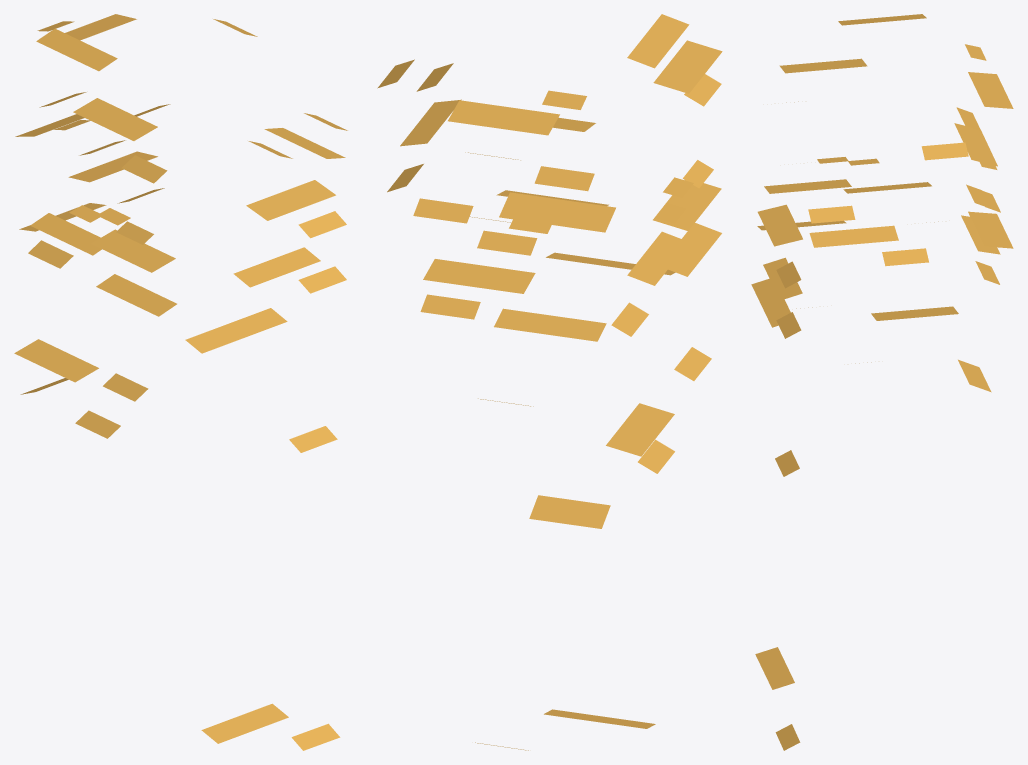
The model's file is toit maison bidonville.fbx.
3 renders of one model, left to right at view 1: azimuth 30°, elevation 25°; view 2: azimuth 150°, elevation 25°; view 3: azimuth 270°, elevation 25°, orthographic. The views are drawn at different scales.
Parts seen in each view (by area): view 1: Cube.346, Cube.338, Cube.121, Cube.244, Cube.111, Cube.417, Cube.340, Cube.133, Cube.125, Cube.115, Cube.542, Cube.554 (+9 smaller); view 2: Cube.533, Cube.554, Cube.542, Cube.535, Cube.121, Cube.244, Cube.646, Cube.115, Cube.125, Cube.111, Cube.133, Cube.544 (+11 smaller); view 3: Cube.544, Cube.338, Cube.542, Cube.554, Cube.417, Cube.346, Cube.533, Cube.121, Cube.111, Cube.244, Cube.340, Cube.546 (+5 smaller).
Boxes of the visible parts, bbox=[...] form: Cube.346: bbox=[185, 308, 287, 353]; Cube.338: bbox=[246, 180, 335, 220]; Cube.121: bbox=[73, 98, 157, 140]; Cube.244: bbox=[14, 339, 98, 382]; Cube.111: bbox=[91, 229, 175, 272]; Cube.417: bbox=[201, 703, 288, 743]; Cube.340: bbox=[233, 247, 320, 287]; Cube.133: bbox=[96, 274, 176, 316]; Cube.125: bbox=[36, 28, 117, 71]; Cube.115: bbox=[30, 213, 101, 255]; Cube.542: bbox=[68, 151, 157, 182]; Cube.554: bbox=[65, 14, 136, 40]; Cube.533: bbox=[499, 192, 615, 232]; Cube.554: bbox=[448, 100, 559, 135]; Cube.542: bbox=[423, 259, 535, 293]; Cube.535: bbox=[494, 308, 606, 341]; Cube.121: bbox=[653, 40, 722, 93]; Cube.244: bbox=[606, 403, 674, 456]; Cube.646: bbox=[529, 495, 610, 528]; Cube.115: bbox=[627, 231, 689, 285]; Cube.125: bbox=[627, 14, 689, 68]; Cube.111: bbox=[653, 180, 721, 230]; Cube.133: bbox=[668, 223, 721, 276]; Cube.544: bbox=[400, 99, 461, 146]; Cube.544: bbox=[809, 225, 898, 247]; Cube.338: bbox=[757, 204, 802, 246]; Cube.542: bbox=[968, 211, 1013, 248]; Cube.554: bbox=[968, 72, 1013, 108]; Cube.417: bbox=[755, 647, 794, 689]; Cube.346: bbox=[751, 278, 790, 327]; Cube.533: bbox=[954, 123, 997, 166]; Cube.121: bbox=[779, 58, 867, 73]; Cube.111: bbox=[764, 179, 851, 193]; Cube.244: bbox=[871, 306, 958, 320]; Cube.340: bbox=[763, 257, 802, 300]; Cube.546: bbox=[808, 205, 855, 223].
Size of the model in its own units: 4105 by 10706 by 3974.
